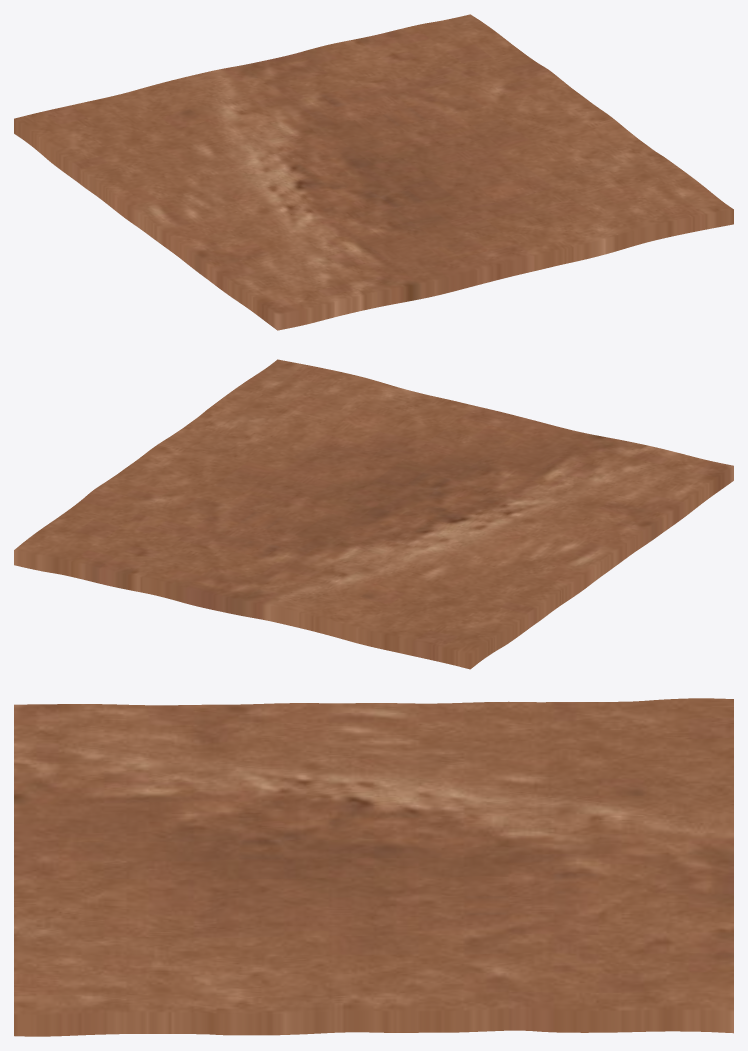
3 views of the same model, one above another, from view 1: azimuth 30°, elevation 25°; view 2: azimuth 150°, elevation 25°; view 3: azimuth 270°, elevation 25° (orthographic). The views are drawn at different scales.
Visible parts, largest first — view 1: L8_130_84; view 2: L8_130_84; view 3: L8_130_84.
Boxes of the visible parts, x1,y1,x2,y2 form: L8_130_84: [14, 14, 733, 330]; L8_130_84: [14, 359, 733, 669]; L8_130_84: [14, 698, 733, 1036].
Size of the model in its own units: 56.26 by 2.95 by 56.28.
Materials: 1 (1 with a texture image).
